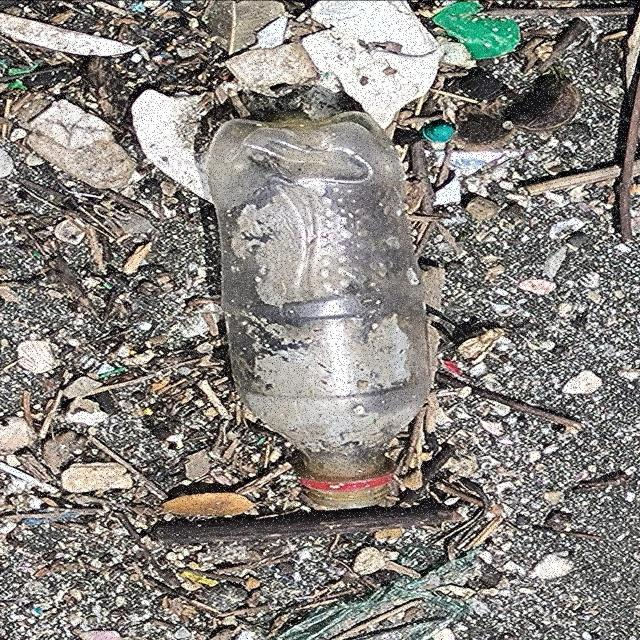plastic_waste: (207, 111, 436, 511)
